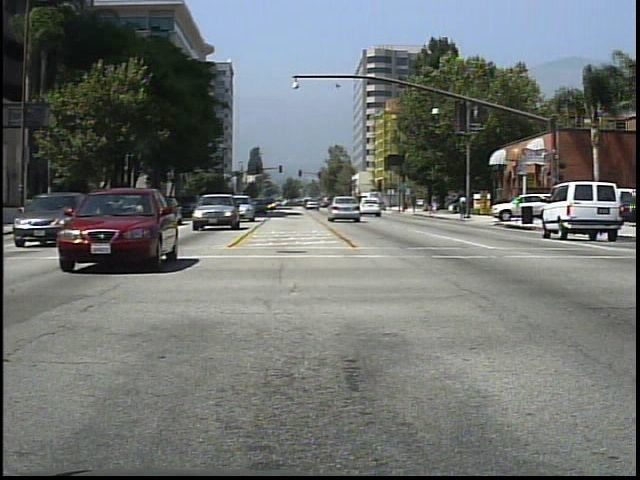person: (455, 189, 471, 221), (430, 191, 442, 216)
